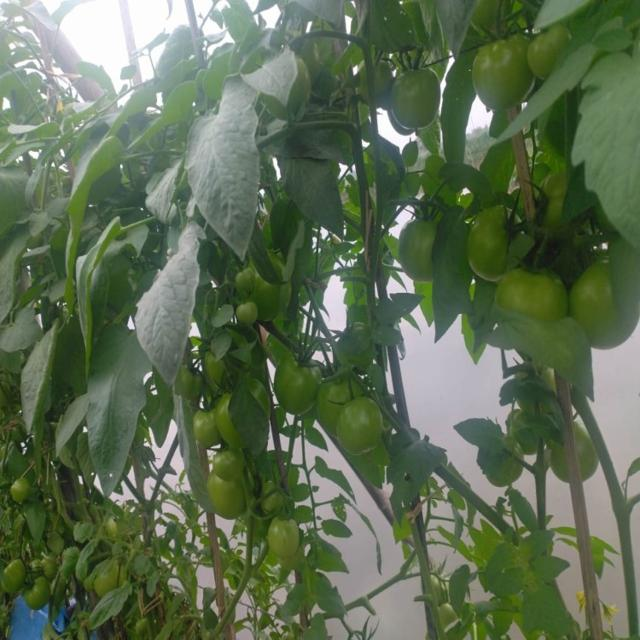tomato: (465, 203, 529, 282), (571, 270, 630, 347), (478, 31, 534, 112), (330, 395, 391, 454), (505, 266, 566, 319), (390, 68, 442, 130), (281, 362, 329, 416), (401, 215, 439, 276), (318, 373, 355, 423), (192, 408, 228, 457), (267, 515, 306, 560), (533, 26, 569, 74), (213, 478, 247, 528), (23, 576, 55, 616), (251, 282, 281, 321), (214, 448, 244, 485), (580, 422, 596, 482), (234, 266, 259, 301), (4, 559, 27, 596), (7, 475, 35, 503), (93, 569, 131, 589), (237, 297, 257, 331), (182, 364, 201, 397), (104, 512, 121, 539)
